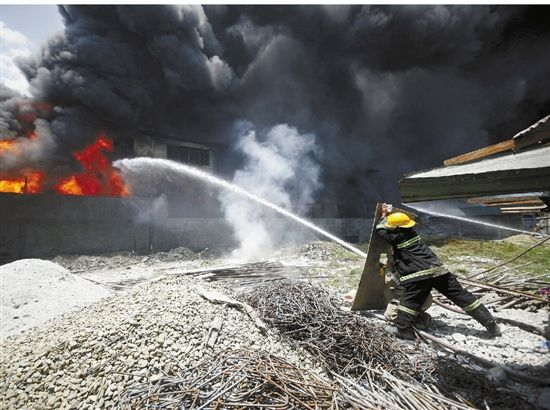fire: (56, 134, 137, 202), (2, 95, 50, 194)
